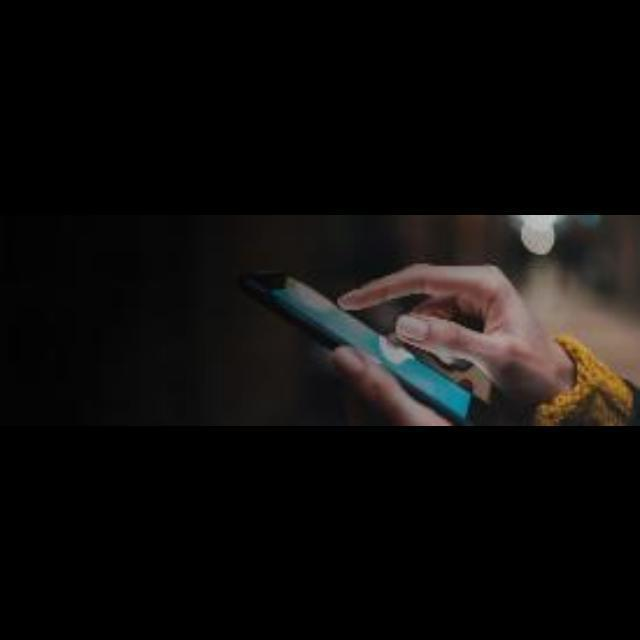phone: (228, 242, 512, 424)
